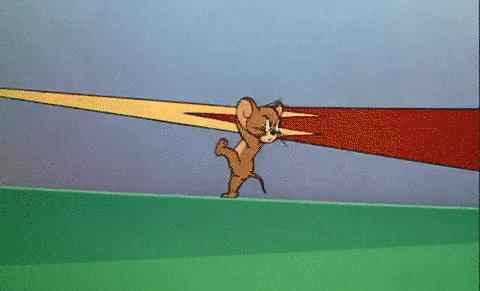jerry: (213, 95, 285, 200)
